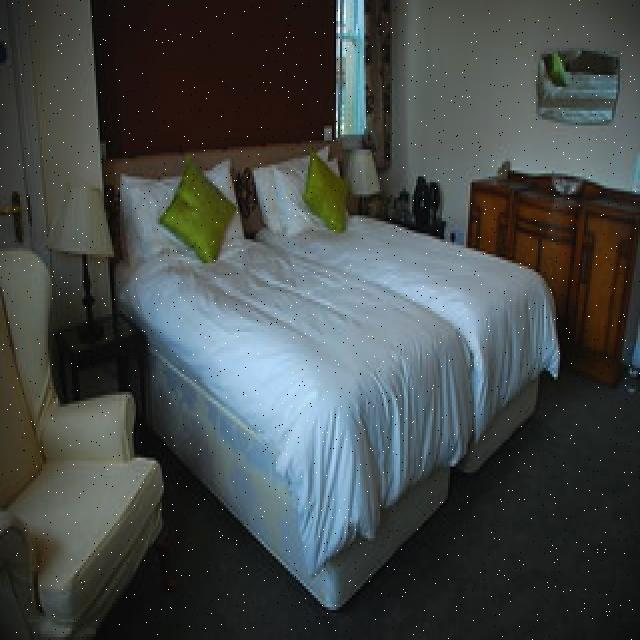bed: (119, 144, 550, 513)
